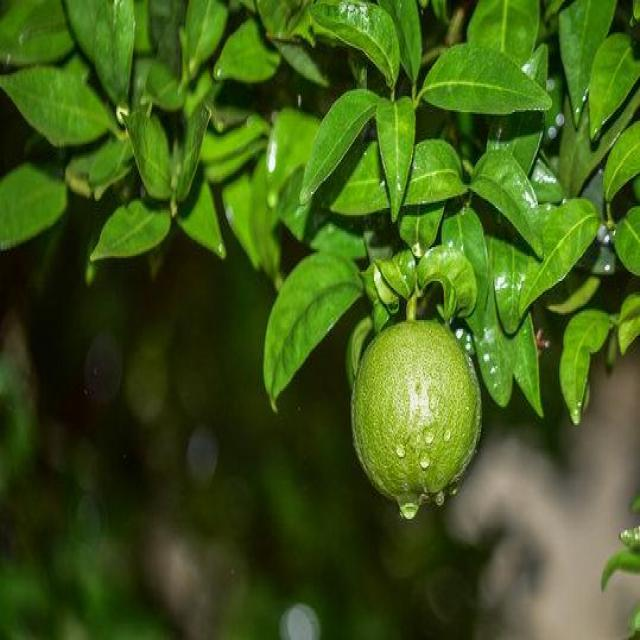Jeruk Belum Matang: (350, 320, 484, 521)
